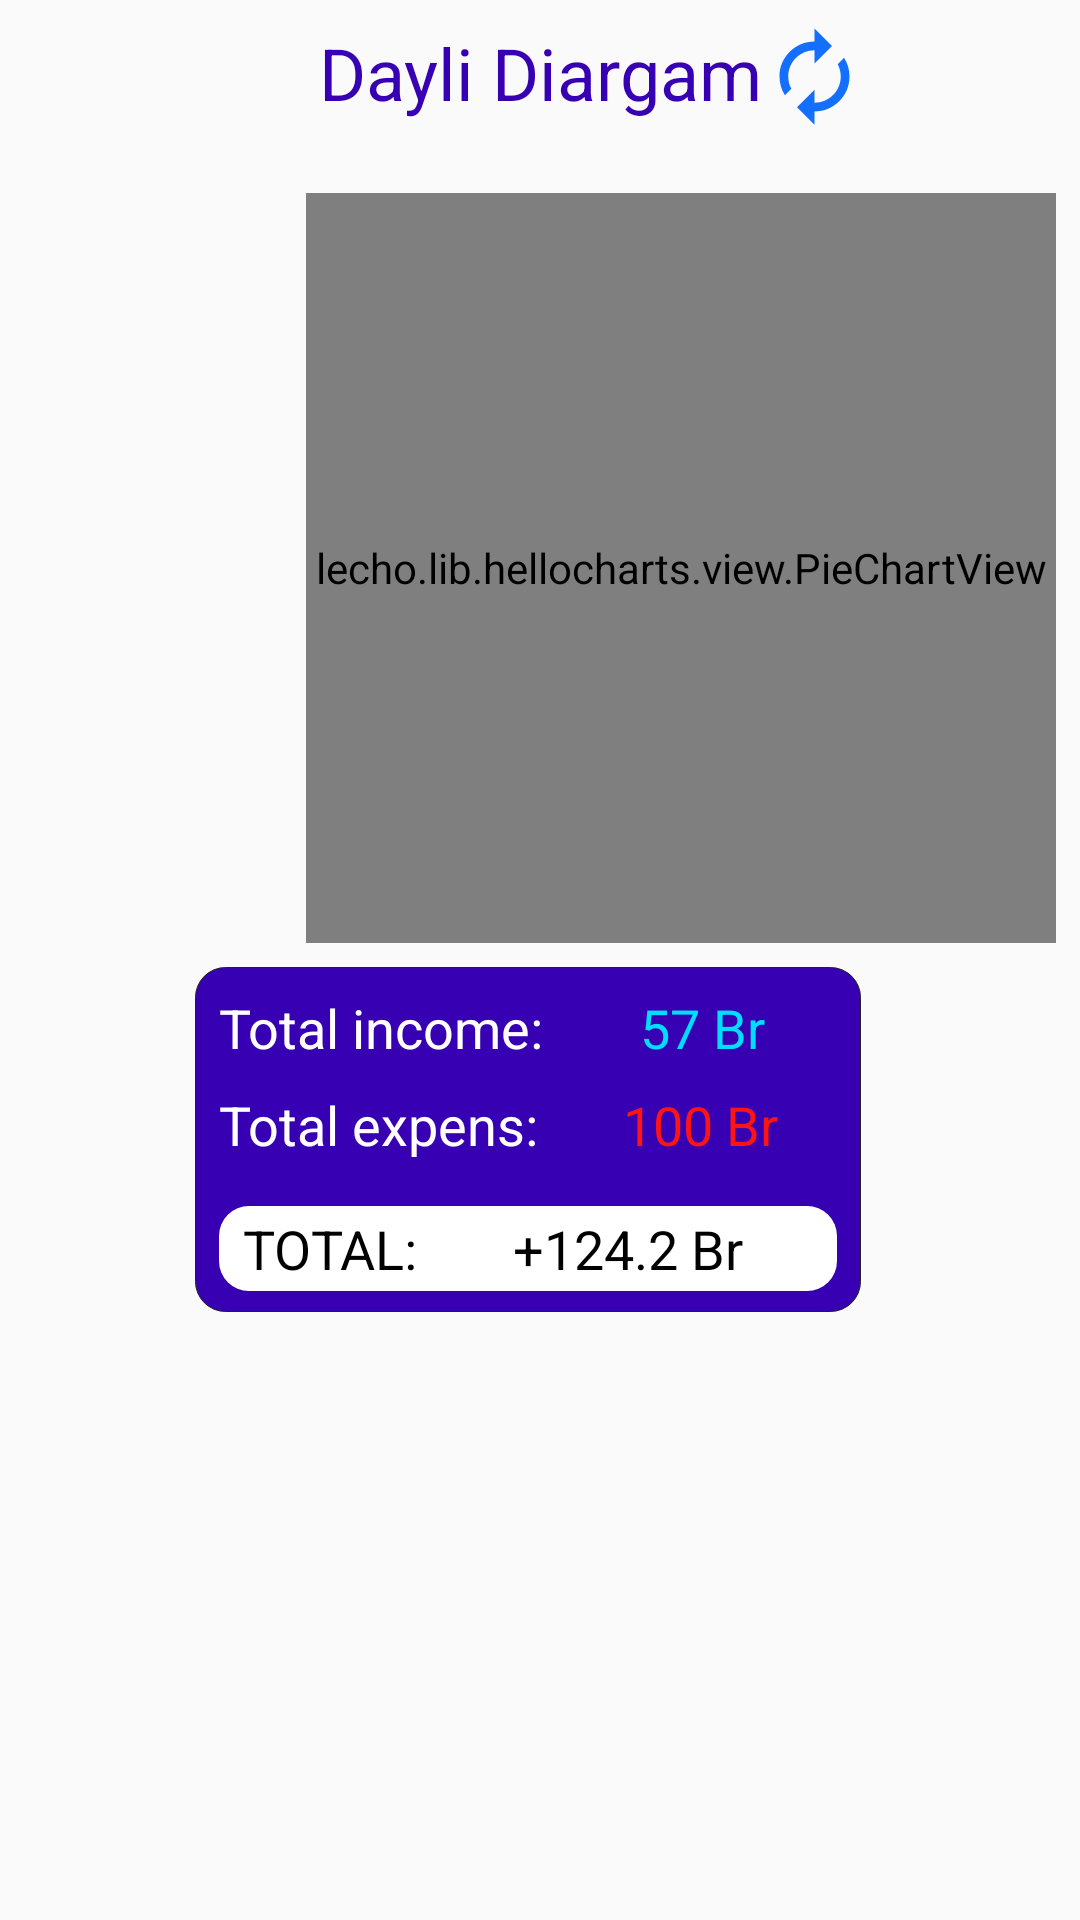

Where icons sit on this 1080*1920 app screen, as BBox(x1, y1, x2, y2):
autorenew: BBox(779, 28, 850, 125)
